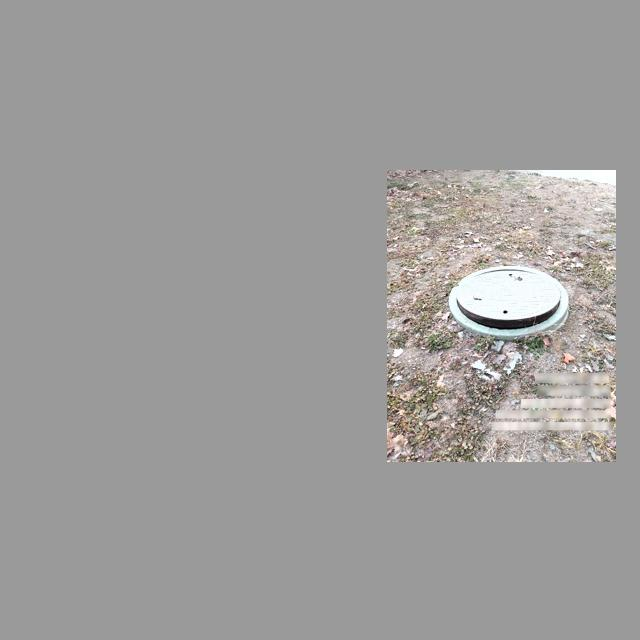uncovered: (450, 266, 569, 342)
